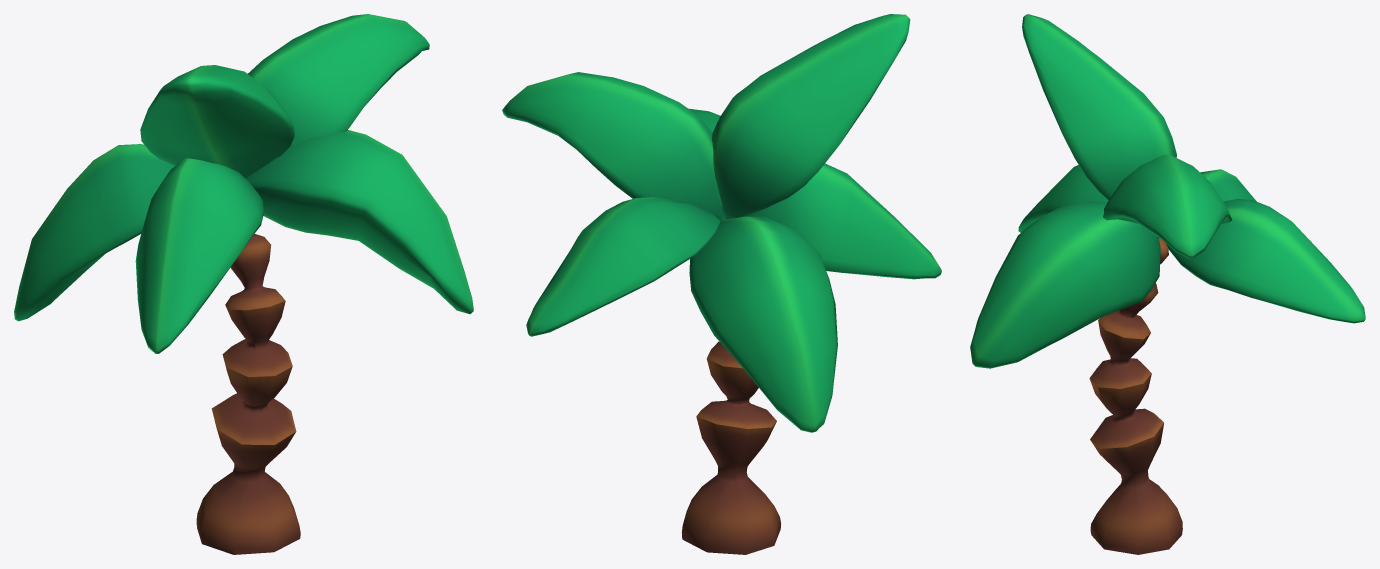
File: newpalmtree.fbx
3 renders of one model, left to right at view 1: azimuth 30°, elevation 25°; view 2: azimuth 150°, elevation 25°; view 3: azimuth 270°, elevation 25°, orthographic. The views are drawn at different scales.
Visible parts, largest first — view 1: palmleaf, palmtreeautosmooth; view 2: palmleaf, palmtreeautosmooth; view 3: palmleaf, palmtreeautosmooth.
Part boxes in pixels (left/top/right/bottom): palmleaf: left=14, top=14, right=473, bottom=353; palmtreeautosmooth: left=196, top=233, right=300, bottom=554; palmleaf: left=502, top=14, right=941, bottom=432; palmtreeautosmooth: left=681, top=341, right=780, bottom=554; palmleaf: left=970, top=14, right=1365, bottom=368; palmtreeautosmooth: left=1089, top=238, right=1182, bottom=554.
Size of the model in its own units: 440 by 594 by 455.
